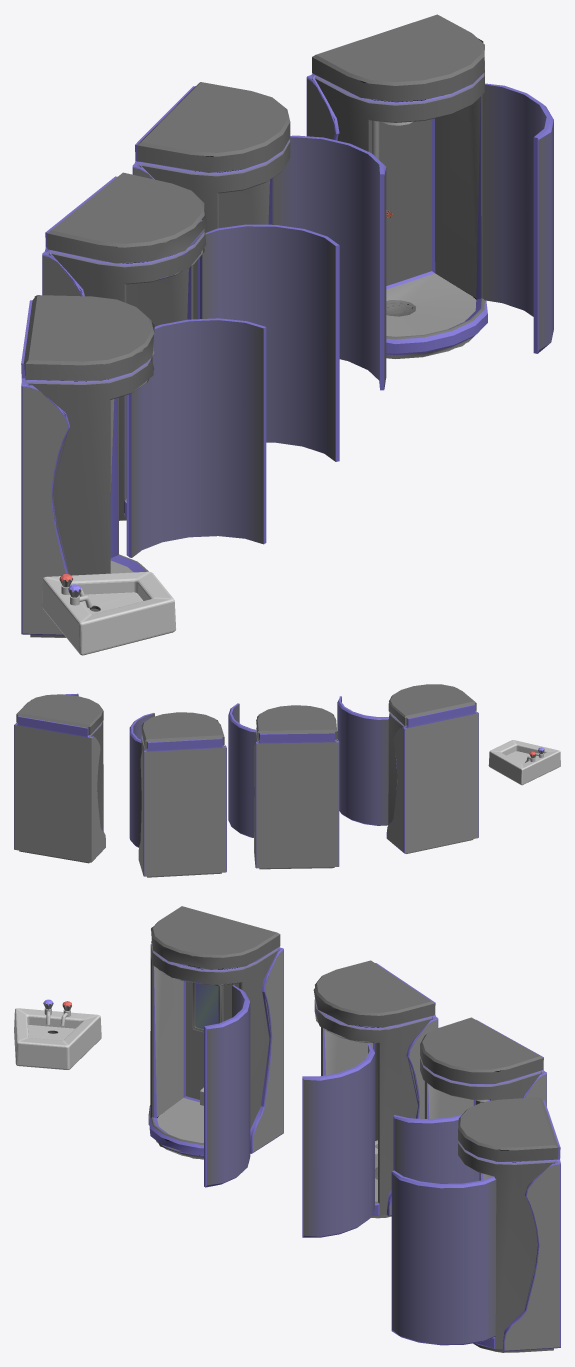
The model's file is bathroom.fbx.
3 renders of one model, top to bottom at view 1: azimuth 30°, elevation 25°; view 2: azimuth 150°, elevation 25°; view 3: azimuth 270°, elevation 25°, orthographic. The views are drawn at different scales.
Visible parts, largest first — view 1: shower room__0.002, Toilet__0.002, toilet door__0.002, toilet door__0.001, Toilet__0.001, shower door__0.001, shower door__0.002, shower room__0.001, wash basin__0; view 2: Toilet__0.002, shower room__0.002, shower room__0.001, Toilet__0.001, toilet door__0.002, toilet door__0.001, wash basin__0, shower door__0.001; view 3: Toilet__0.002, shower room__0.002, shower door__0.002, Toilet__0.001, toilet door__0.001, shower room__0.001, toilet door__0.002, wash basin__0, shower door__0.001.
Boxes of the visible parts, box(x1,y1,x2,y2) form: shower room__0.002: box(306, 14, 487, 358); Toilet__0.002: box(21, 295, 154, 637); toilet door__0.002: box(126, 318, 266, 557); toilet door__0.001: box(198, 224, 339, 461); Toilet__0.001: box(42, 172, 206, 520); shower door__0.001: box(273, 135, 386, 390); shower door__0.002: box(482, 83, 553, 353); shower room__0.001: box(132, 82, 290, 319); wash basin__0: box(42, 571, 175, 655); Toilet__0.002: box(386, 684, 478, 853); shower room__0.002: box(14, 694, 105, 863); shower room__0.001: box(138, 712, 226, 877); Toilet__0.001: box(254, 705, 339, 869); toilet door__0.002: box(337, 696, 388, 825); toilet door__0.001: box(228, 703, 256, 837); wash basin__0: box(488, 740, 560, 785); shower door__0.001: box(129, 713, 154, 847); Toilet__0.002: box(148, 906, 283, 1159); shower room__0.002: box(458, 1097, 560, 1352); shower door__0.002: box(391, 1170, 496, 1345); Toilet__0.001: box(313, 960, 438, 1218); toilet door__0.001: box(302, 1044, 374, 1237); shower room__0.001: box(420, 1017, 546, 1119); toilet door__0.002: box(204, 985, 250, 1187); wash basin__0: box(14, 999, 101, 1069); shower door__0.001: box(393, 1099, 491, 1183).
Bounding box in the file's own units: 773 × 273 × 657.
